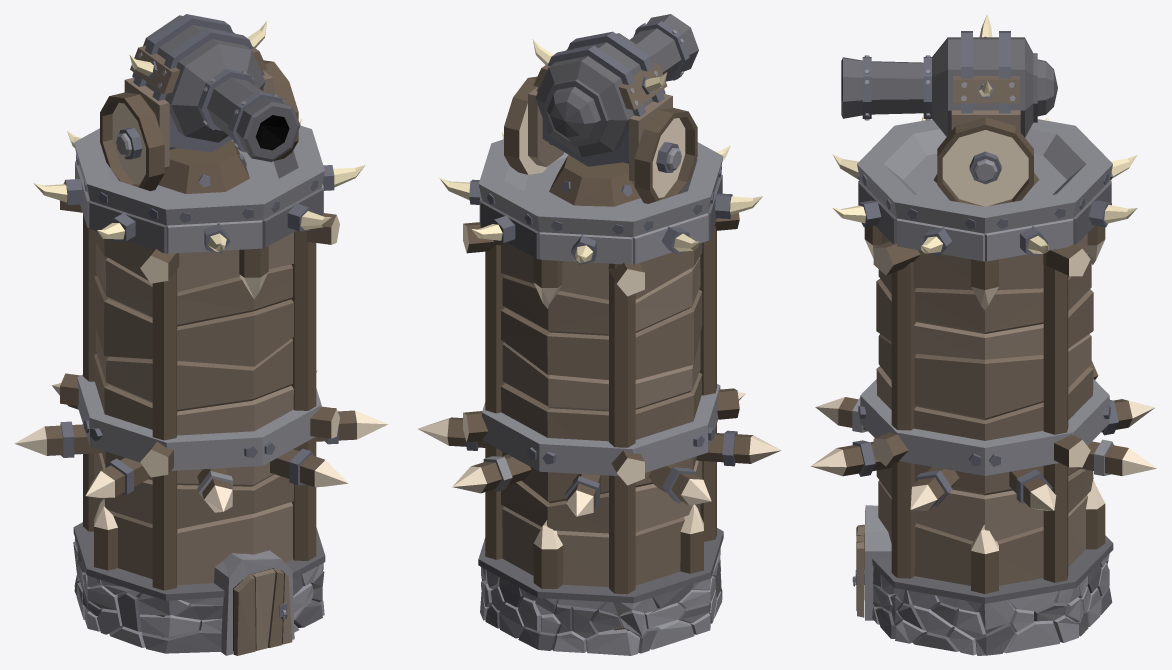
The model's file is _Cannon_Tower_LVL_3.fbx.
The picture shows the model from 3 angles, left to right: view 1: azimuth 30°, elevation 25°; view 2: azimuth 150°, elevation 25°; view 3: azimuth 270°, elevation 25°; orthographic projection. The views are drawn at different scales.
Visible parts, largest first — view 1: Cannon_Tower_LVL_3; view 2: Cannon_Tower_LVL_3; view 3: Cannon_Tower_LVL_3.
Boxes of the visible parts, x1,y1,x2,y2 form: Cannon_Tower_LVL_3: [14, 14, 388, 655]; Cannon_Tower_LVL_3: [417, 14, 781, 655]; Cannon_Tower_LVL_3: [811, 14, 1156, 655].
Size of the model in its own units: 941 by 1719 by 946.
